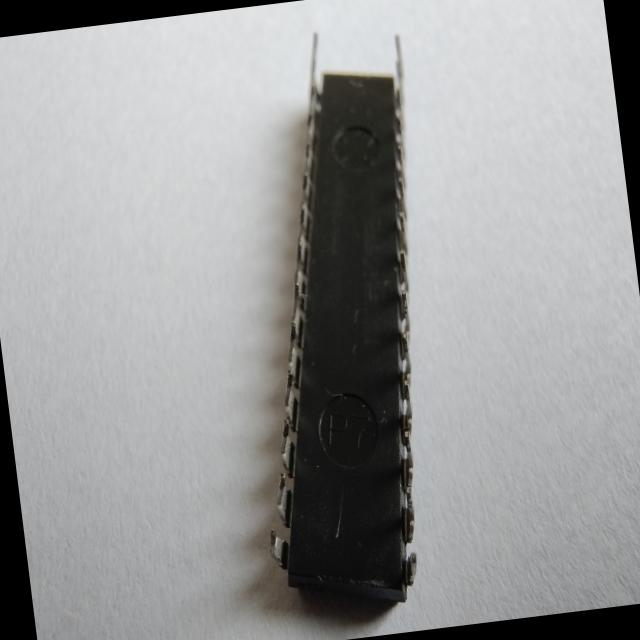atmega: (204, 20, 470, 622)
